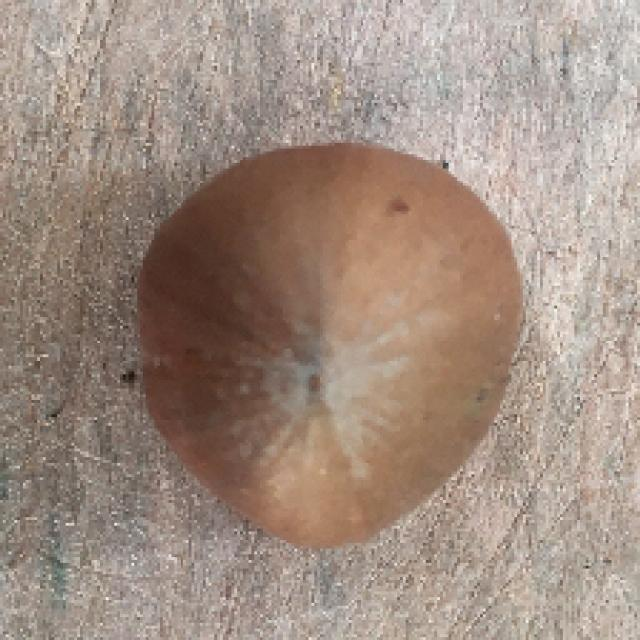qualityHazelnut: (121, 141, 528, 554)
